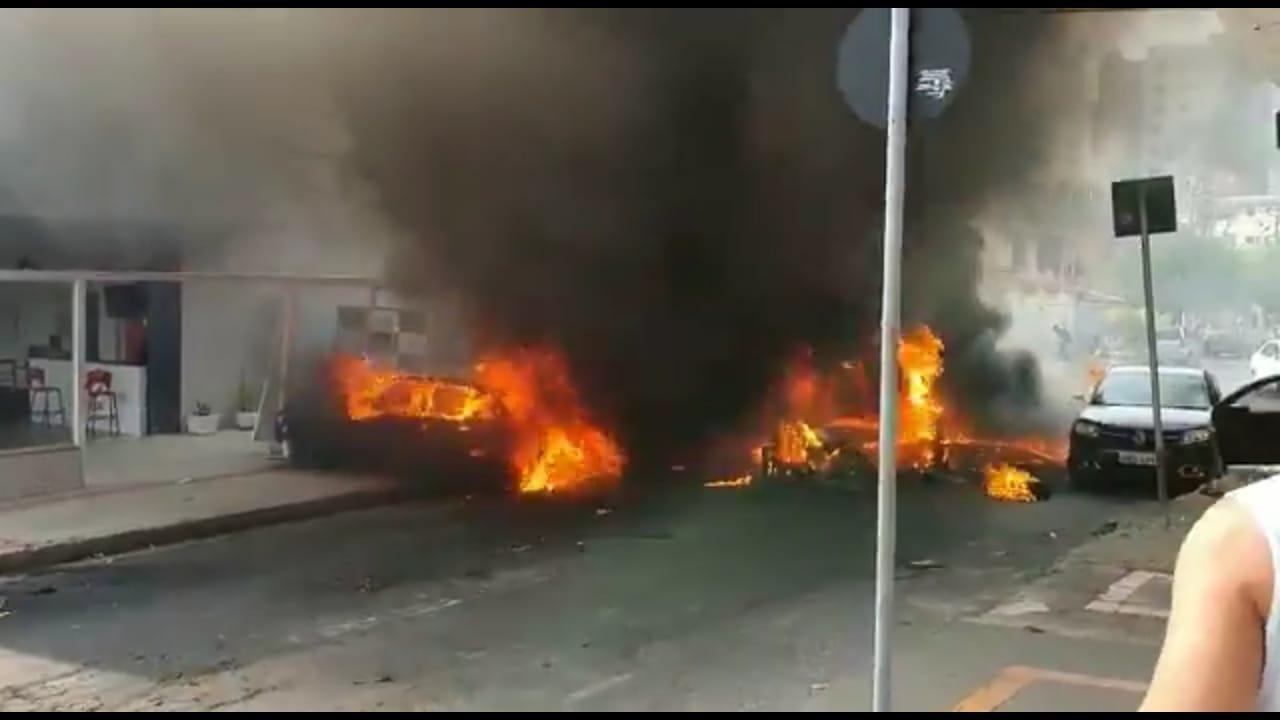Fire: (347, 345, 621, 496), (901, 326, 950, 471), (757, 412, 838, 471), (981, 464, 1042, 506), (704, 472, 756, 491)
